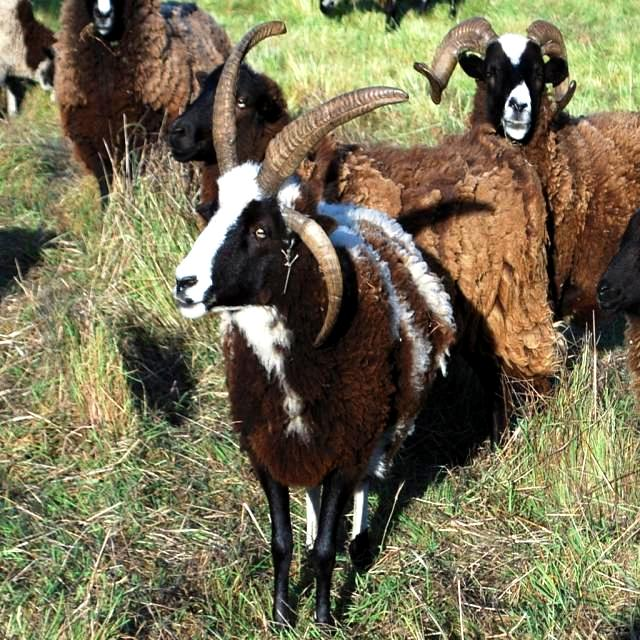sheep: (171, 79, 455, 621), (172, 104, 558, 378), (415, 17, 639, 331), (53, 0, 195, 197), (598, 209, 639, 407), (0, 0, 57, 115), (318, 0, 460, 31), (174, 2, 231, 61)
